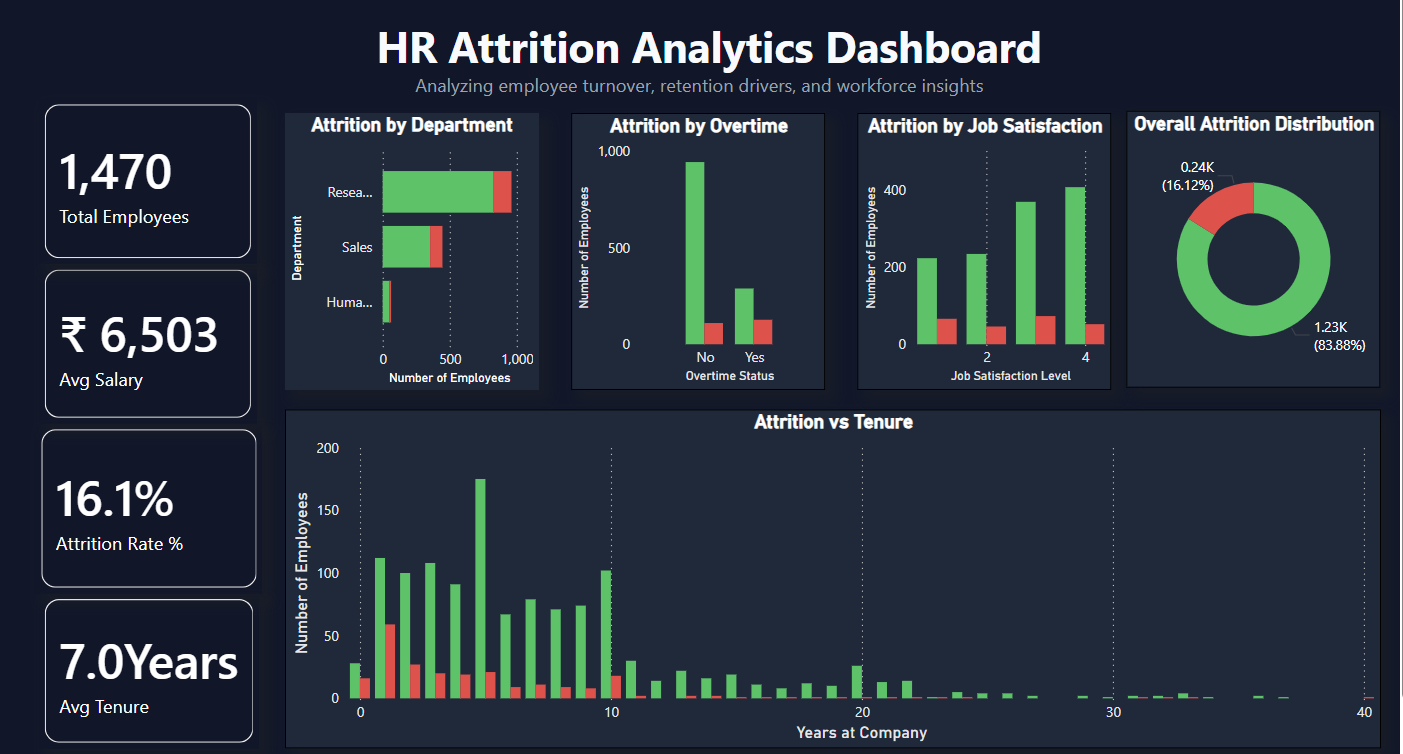

The page's visual inventory and layout, read from the dashboard file:
{"tool":"powerbi","page":{"name":"Page 1","canvas":[1280,720],"ordinal":0},"visuals":[{"type":"barChart","title":"Attrition by Department","fields":{"Series":["cleaned_attrition.Attrition"],"Category":["cleaned_attrition.Department"],"Y":["CountNonNull(cleaned_attrition.Attrition)"]},"box":[250,100,223,243],"z":0},{"type":"clusteredColumnChart","title":"Attrition by Overtime","fields":{"Category":["cleaned_attrition.OverTime"],"Series":["cleaned_attrition.Attrition"],"Y":["CountNonNull(cleaned_attrition.Attrition)"]},"box":[501,100,223,243],"z":1000},{"type":"clusteredColumnChart","title":"Attrition by Job Satisfaction","fields":{"Category":["cleaned_attrition.JobSatisfaction"],"Series":["cleaned_attrition.Attrition"],"Y":["CountNonNull(cleaned_attrition.Attrition)"]},"box":[752,100,223,243],"z":2000},{"type":"donutChart","title":"Overall Attrition Distribution","fields":{"Category":["cleaned_attrition.Attrition"],"Y":["CountNonNull(cleaned_attrition.Attrition)"]},"box":[988,98,223,243],"z":3000},{"type":"clusteredColumnChart","title":"Attrition vs Tenure","fields":{"Category":["cleaned_attrition.YearsAtCompany"],"Series":["cleaned_attrition.Attrition"],"Y":["CountNonNull(cleaned_attrition.Attrition)"]},"box":[250,360,961,298],"z":4000},{"type":"cardVisual","title":"Total Employees","fields":{"Data":["cleaned_attrition.Avg Salary"]},"box":[34,233,191,140],"z":5000},{"type":"cardVisual","title":"Total Employees","fields":{"Data":["cleaned_attrition.Attrition Rate %"]},"box":[31,373,199,149],"z":6000},{"type":"cardVisual","title":"Total Employees","fields":{"Data":["cleaned_attrition.Avg Tenure Label"]},"box":[34,522,193,136],"z":7000},{"type":"cardVisual","title":"Total Employees","fields":{"Data":["cleaned_attrition.Total Employees Exact"]},"box":[34,88,191,145],"z":8000},{"type":"textbox","box":[43,11,1168,98],"z":9000},{"type":"textbox","box":[69,60,1089,72],"z":10000}]}

Visuals, with their boxes on the page's 1280x720 design canvas (x1, y1, x2, y2). These are canvas units, not pixel positions in the 1403x754 screenshot, which may show the page scaled, cropped or inside an application window:
"Attrition by Department" barChart: box=[250, 100, 473, 343]
"Attrition by Overtime" clusteredColumnChart: box=[501, 100, 724, 343]
"Attrition by Job Satisfaction" clusteredColumnChart: box=[752, 100, 975, 343]
"Overall Attrition Distribution" donutChart: box=[988, 98, 1211, 341]
"Attrition vs Tenure" clusteredColumnChart: box=[250, 360, 1211, 658]
"Total Employees" cardVisual: box=[34, 233, 225, 373]
"Total Employees" cardVisual: box=[31, 373, 230, 522]
"Total Employees" cardVisual: box=[34, 522, 227, 658]
"Total Employees" cardVisual: box=[34, 88, 225, 233]
textbox: box=[43, 11, 1211, 109]
textbox: box=[69, 60, 1158, 132]
